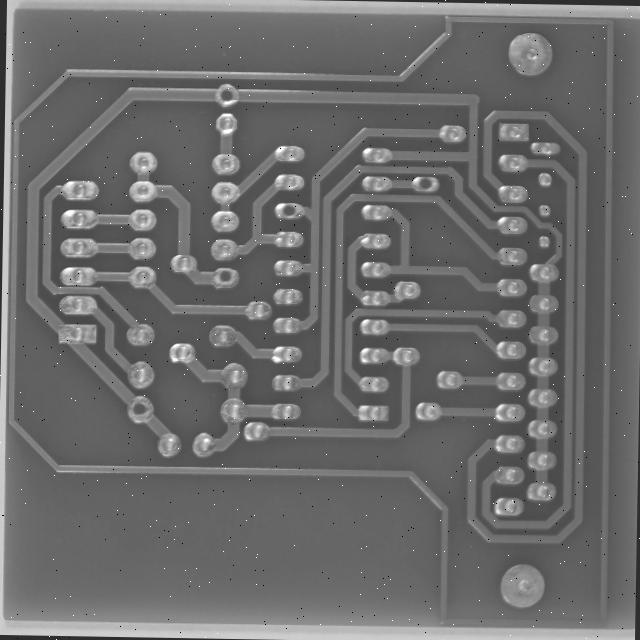missing_hole: (127, 401, 155, 429), (216, 270, 241, 296), (218, 82, 242, 109), (419, 178, 445, 196), (283, 203, 304, 222)
